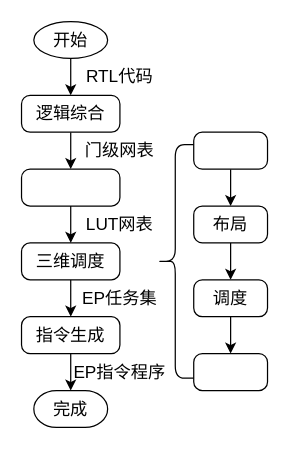
The diagram is 289 pixels wide and 449 high, and some of its shapes have lost their labels. Here are the shapes that lost their labels. From the top down, the centre of each, then its label:
the point at 230,150: 分割
the point at 70,187: 技术映射
the point at 230,371: 布线
